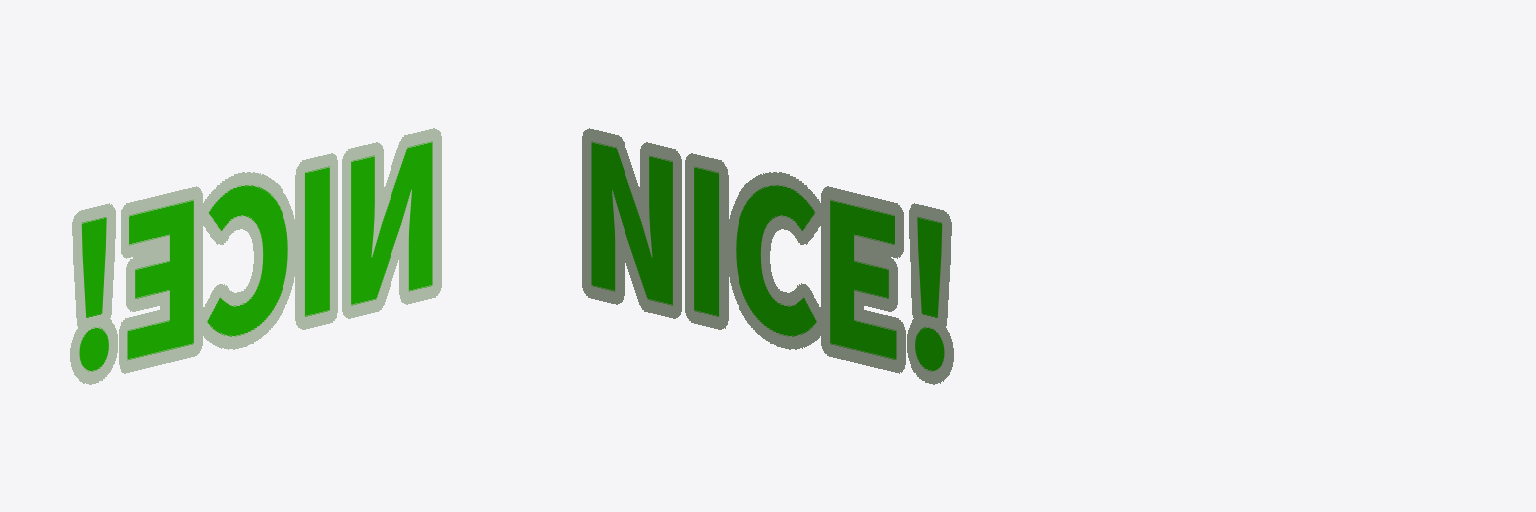
The picture shows the model from 3 angles: view 1: azimuth 30°, elevation 25°; view 2: azimuth 150°, elevation 25°; view 3: azimuth 270°, elevation 25°; orthographic projection.
Parts seen in each view (by area): view 1: 平面; view 2: 平面; view 3: none.
Boxes of the visible parts, x1,y1,x2,y2 form: 平面: [70, 128, 441, 384]; 平面: [582, 128, 953, 384].
Bounding box in the file's own units: 65.37 × 29.73 × 0.0557.
Materials: 1 (1 with a texture image).